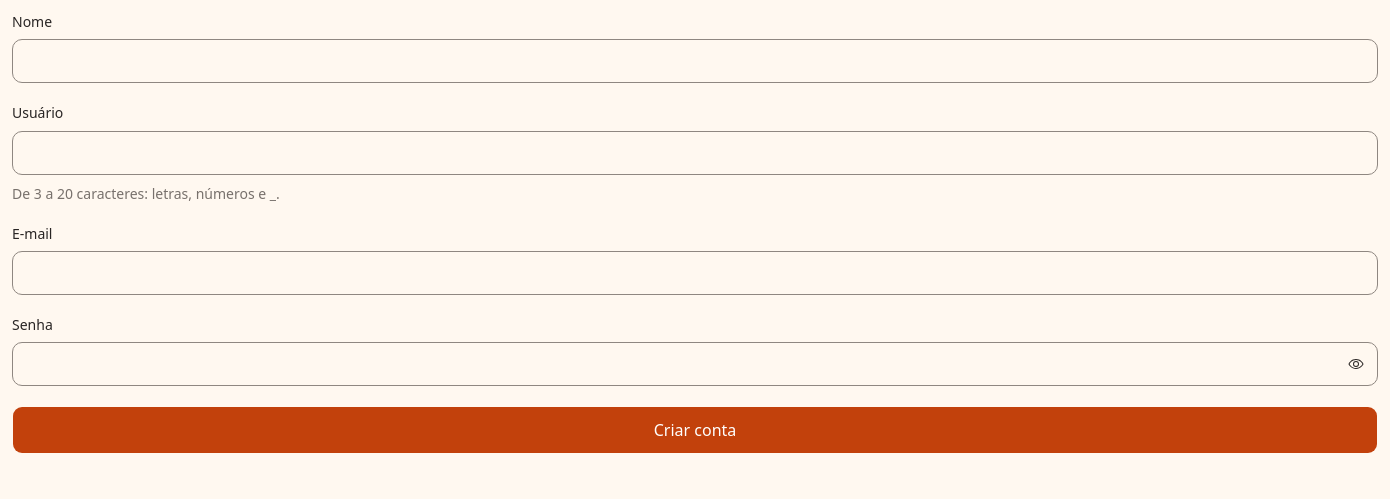
Test: SignUpForm › marks the e-mail field when the e-mail is taken
In the field labelled "Nome": (695, 61) [12,39,1378,83], type "Ana Souza"
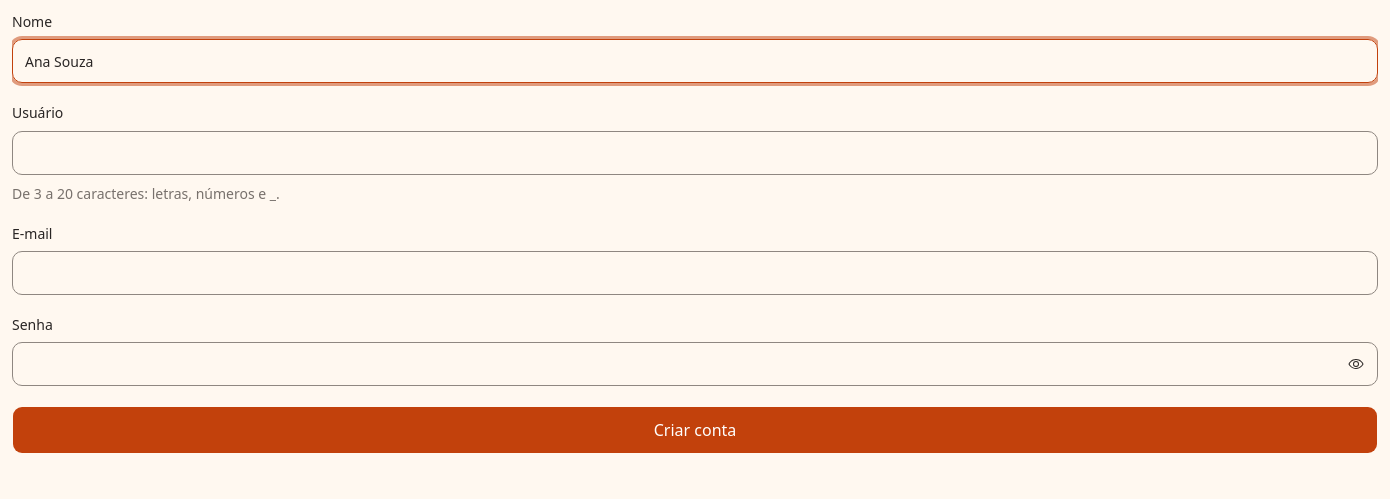
In the field labelled "Usuário": (695, 152) [12,130,1378,174], type "ana_souza"
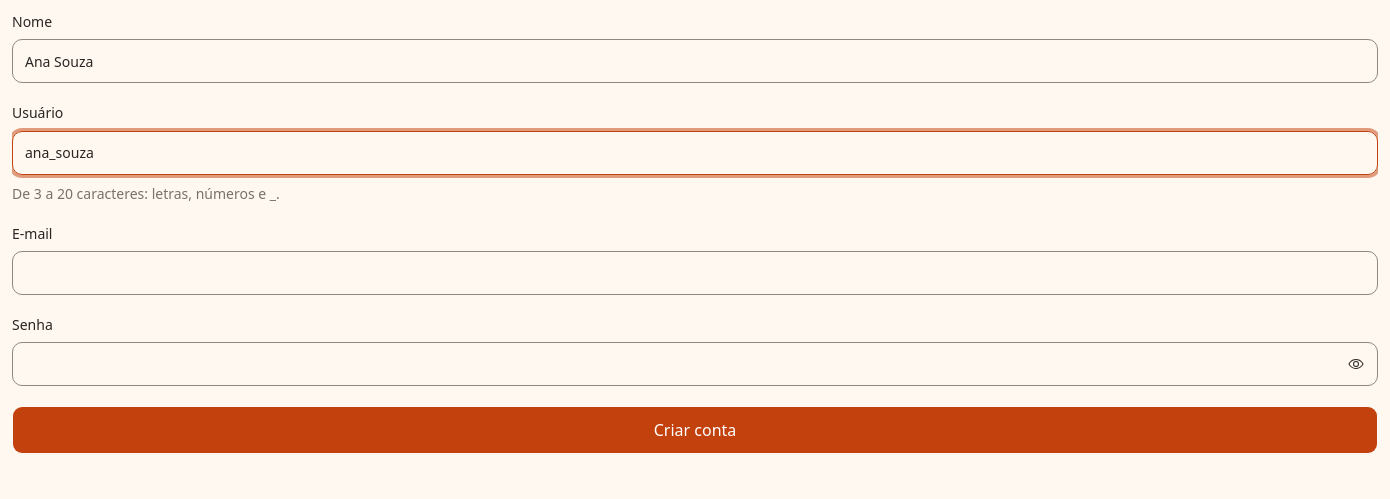
In the field labelled "E-mail": (695, 273) [12,251,1378,295], type "ana@example.com"
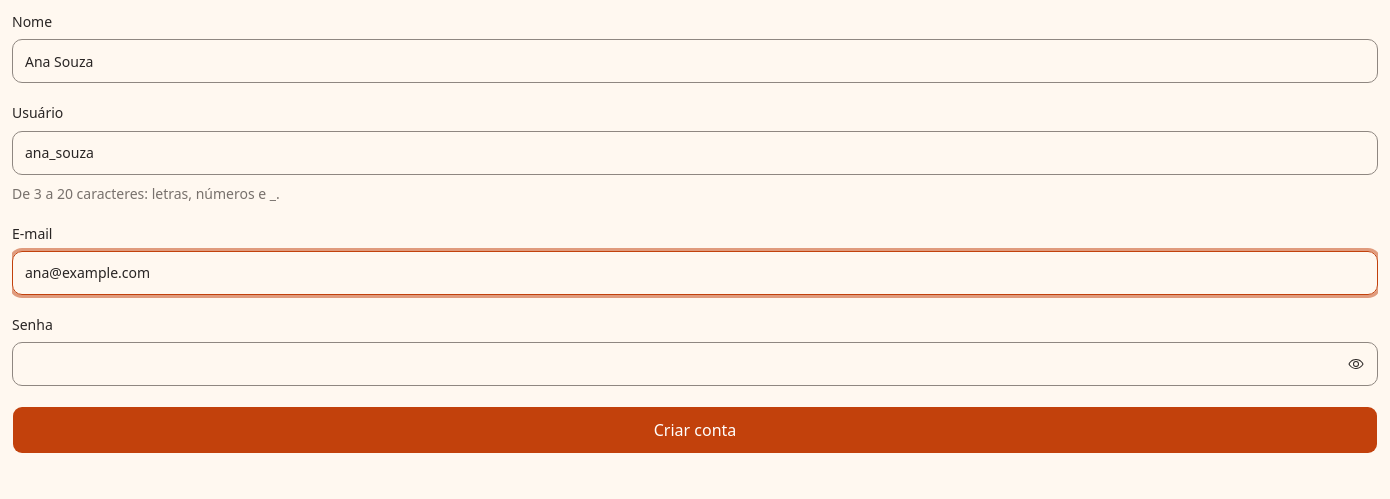
In the password field labelled "Senha": (695, 364) [12,342,1378,386], type "secret"
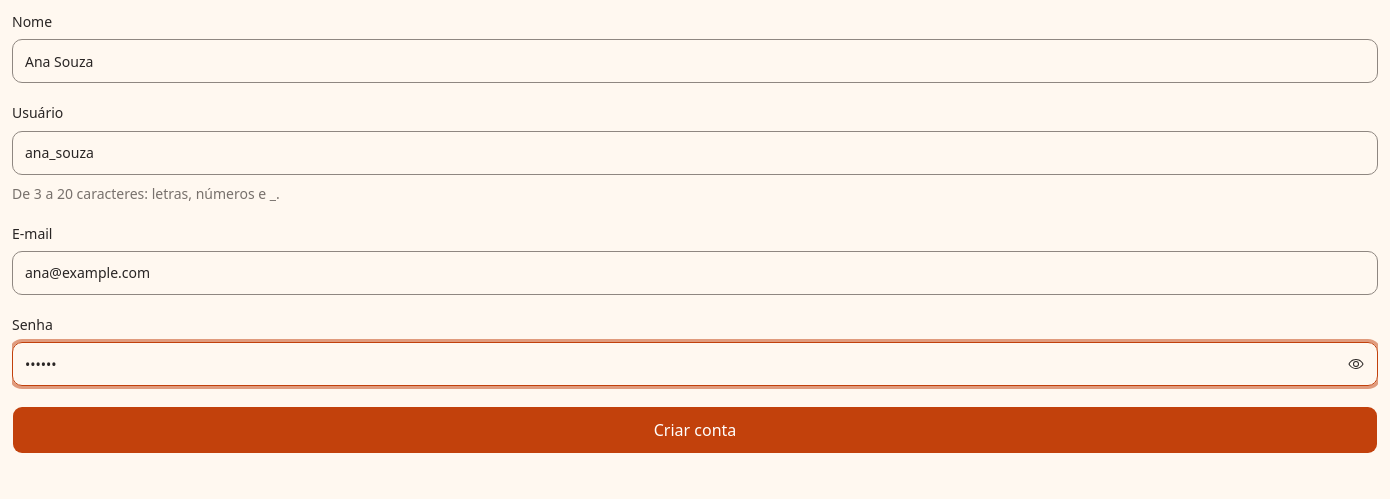
Click the button "Criar conta": (695, 430) [12,406,1378,454]
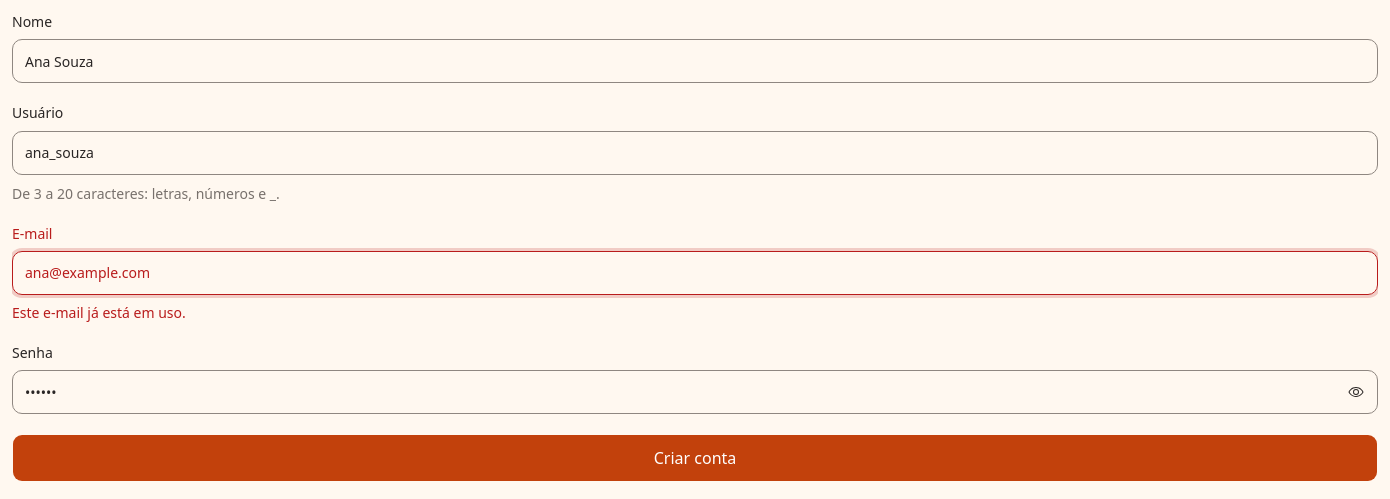
Check: the button "Criar conta" is enabled, box [12,434,1378,482]
Check: the text "Este e-mail já está em uso." is shown, box [12,303,186,322]
